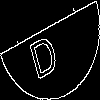D: (25, 25, 60, 81)
